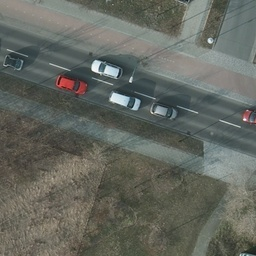car: (92, 61, 125, 79), (57, 75, 88, 94), (111, 93, 140, 113), (149, 103, 177, 118)
